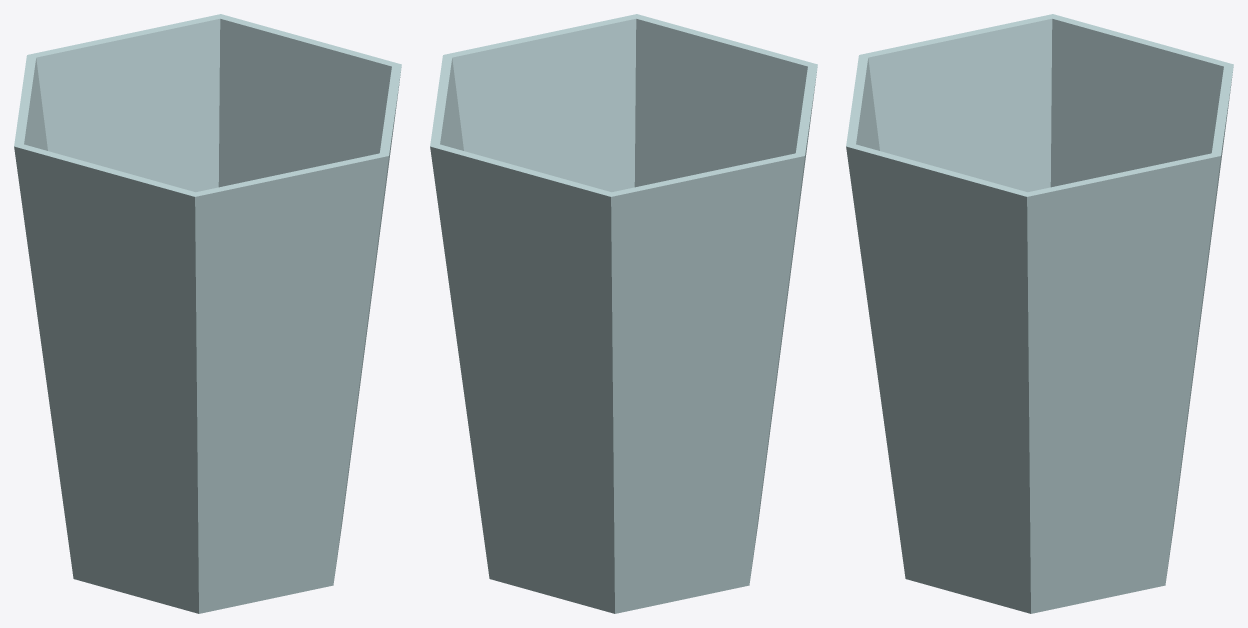
File: Verre2.fbx
The picture shows the model from 3 angles, left to right: view 1: azimuth 30°, elevation 25°; view 2: azimuth 150°, elevation 25°; view 3: azimuth 270°, elevation 25°; orthographic projection.
Parts seen in each view (by area): view 1: Verre; view 2: Verre; view 3: Verre.
Boxes of the visible parts, <box> form: Verre: <box>14,14,401,613</box>; Verre: <box>430,14,817,613</box>; Verre: <box>846,14,1233,613</box>.
Bounding box in the file's own units: 9.17 × 10.41 × 8.22.
